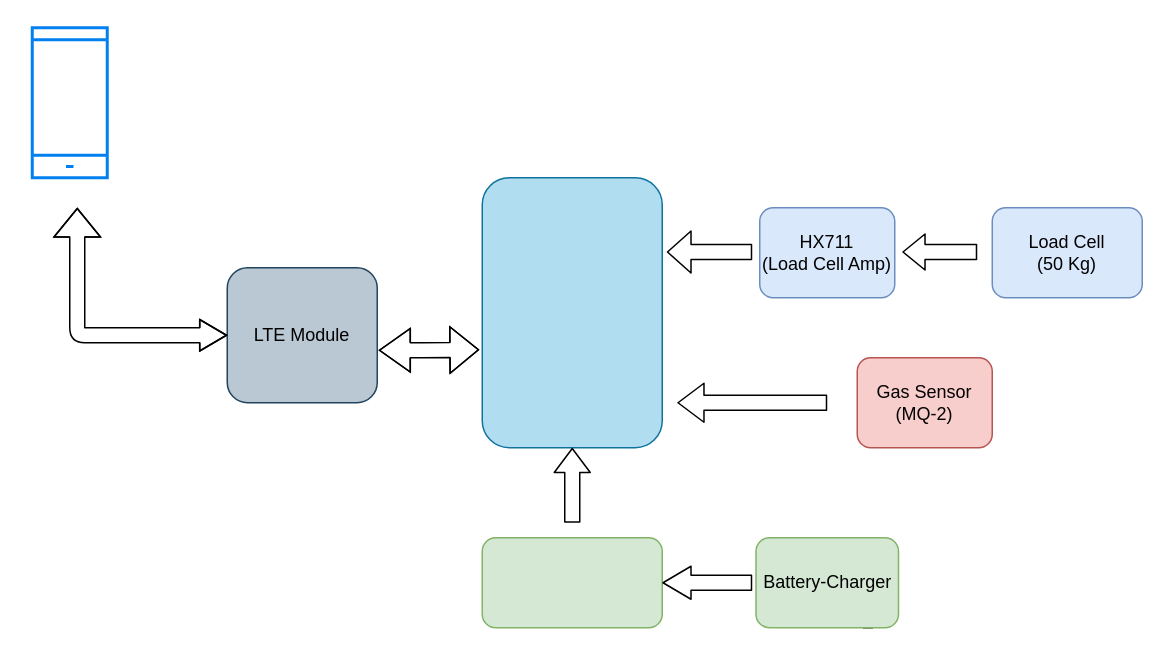
The diagram is 1169 pixels wide and 666 high, and some of its shapes have lost their labels. The box of each missing label's shape, as (x1, y1, x2, y2) in pixels:
Li-Ion Battery: (481, 536, 662, 628)
MCU STM32F4-Discovery (Cortex-M4): (481, 176, 662, 448)
Mobile App: (30, 26, 108, 178)
